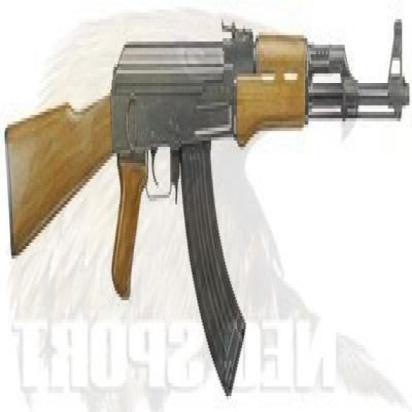Gun: (0, 12, 409, 400)
